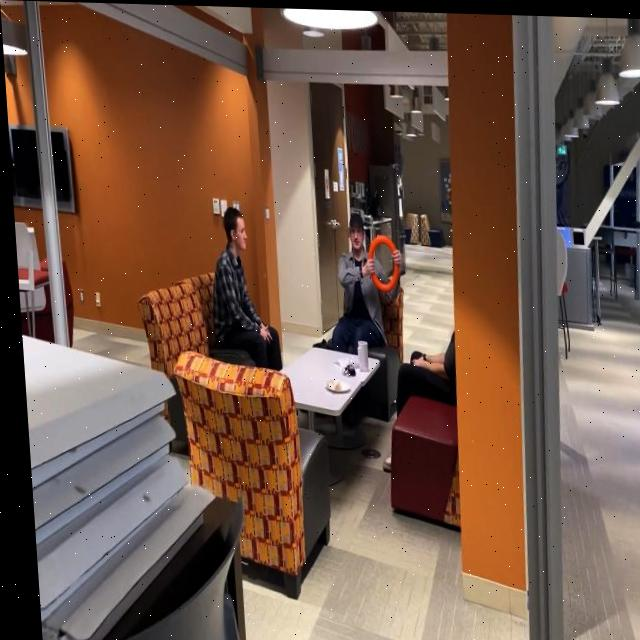note: (362, 227, 397, 288)
